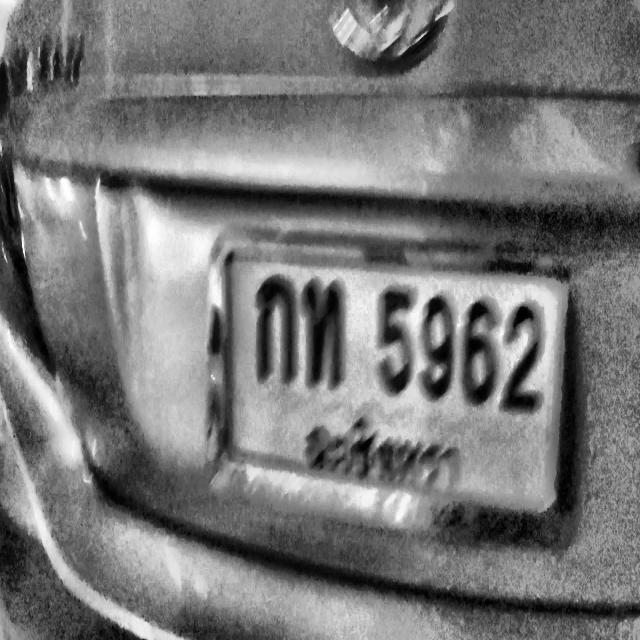license-plate: (227, 250, 565, 510)
